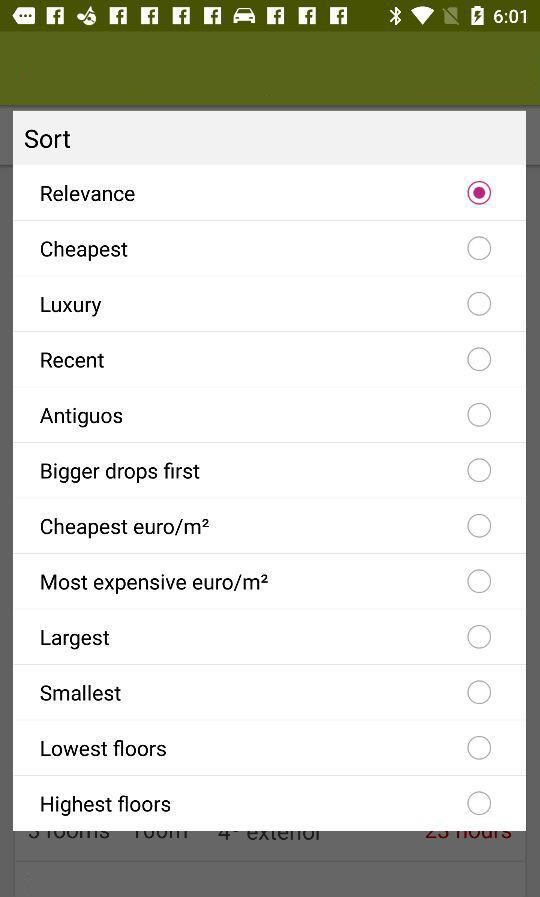CheckedTextView: (41, 236, 492, 262), (41, 513, 492, 539), (41, 569, 492, 595), (41, 625, 492, 651), (41, 679, 492, 705), (40, 458, 492, 483), (41, 181, 492, 206), (41, 292, 492, 317), (41, 736, 492, 761), (41, 791, 492, 816), (42, 403, 492, 428), (41, 348, 492, 372)
Modal: (13, 112, 526, 832)
Text: (41, 573, 269, 595), (41, 517, 210, 539), (40, 462, 200, 483), (41, 795, 171, 815), (41, 740, 167, 757), (41, 241, 129, 262), (42, 408, 124, 428), (41, 185, 135, 202), (41, 629, 111, 651), (41, 685, 123, 702), (41, 298, 103, 317), (41, 352, 106, 369), (26, 130, 72, 149)
UpperTaskBar: (1, 1, 540, 33)
